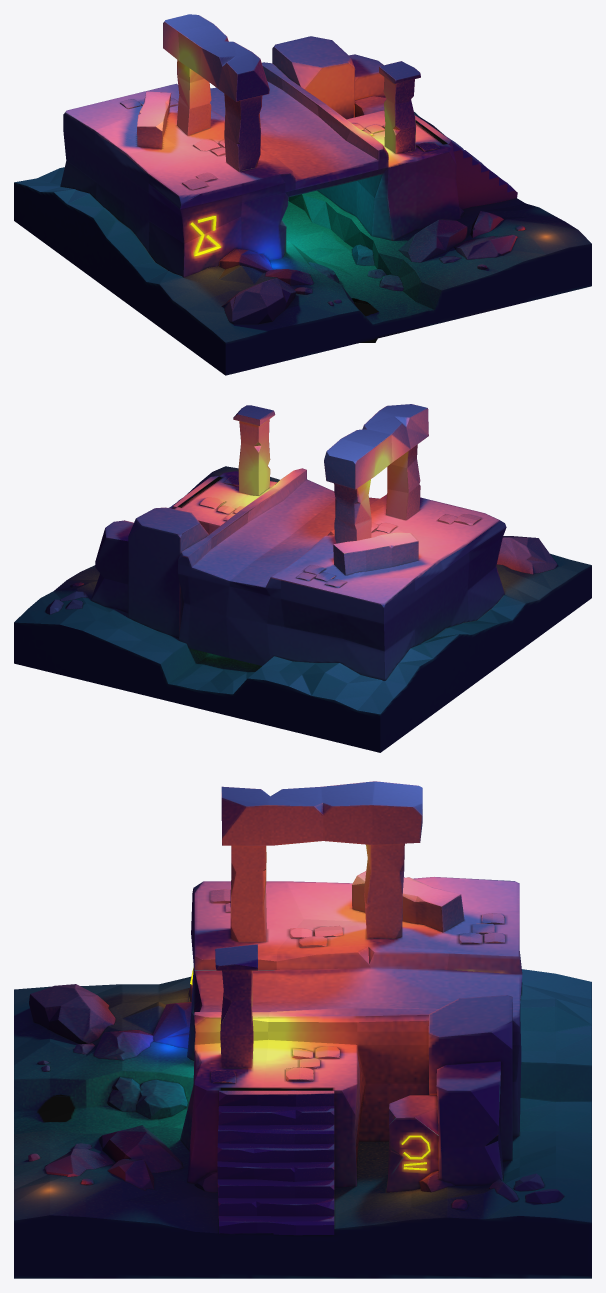
3 renders of one model, top to bottom at view 1: azimuth 30°, elevation 25°; view 2: azimuth 150°, elevation 25°; view 3: azimuth 270°, elevation 25°, orthographic. The views are drawn at different scales.
Parts seen in each view (by area): view 1: Ruin, Ground, Pillar.001, Rock.001, Stairs, Tile; view 2: Ruin, Ground, Pillar.001, Rock.001, Tile; view 3: Ground, Ruin, Pillar.001, Stairs, Rock.001, Tile.
Part boxes in pixels (<box>): Ruin: <box>60,36,460,277</box>; Ground: <box>14,112,591,375</box>; Pillar.001: <box>137,14,420,171</box>; Rock.001: <box>219,207,525,342</box>; Stairs: <box>414,115,517,209</box>; Tile: <box>120,92,439,190</box>; Ruin: <box>91,468,506,680</box>; Ground: <box>14,466,591,752</box>; Pillar.001: <box>233,404,428,575</box>; Rock.001: <box>45,536,557,614</box>; Tile: <box>199,476,481,587</box>; Ground: <box>14,969,591,1278</box>; Ruin: <box>180,877,522,1192</box>; Pillar.001: <box>215,781,464,1068</box>; Stairs: <box>217,1090,334,1235</box>; Rock.001: <box>28,984,564,1210</box>; Tile: <box>210,889,505,1083</box>.
Bounding box in the file's own units: 8.02 × 5.14 × 8.
Materials: 5 (5 with a texture image).
